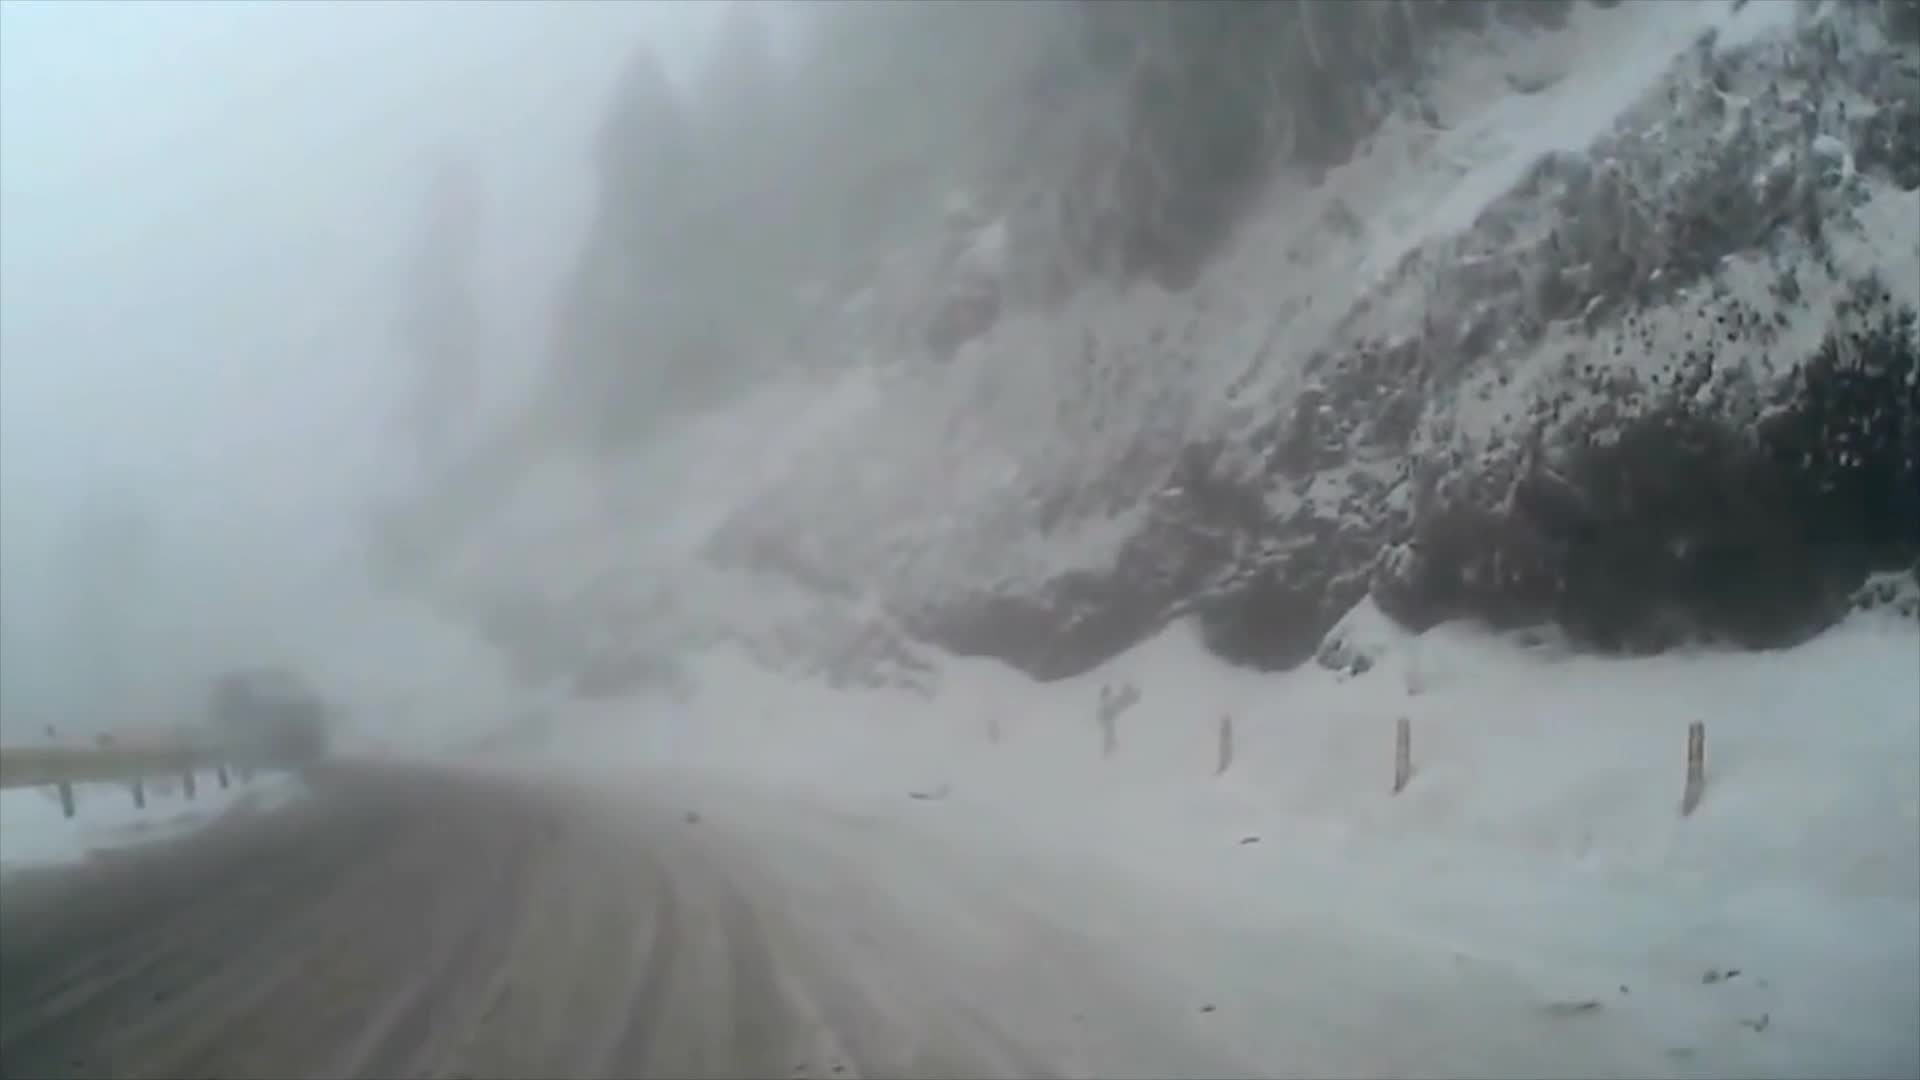vehicle: (211, 673, 326, 775)
